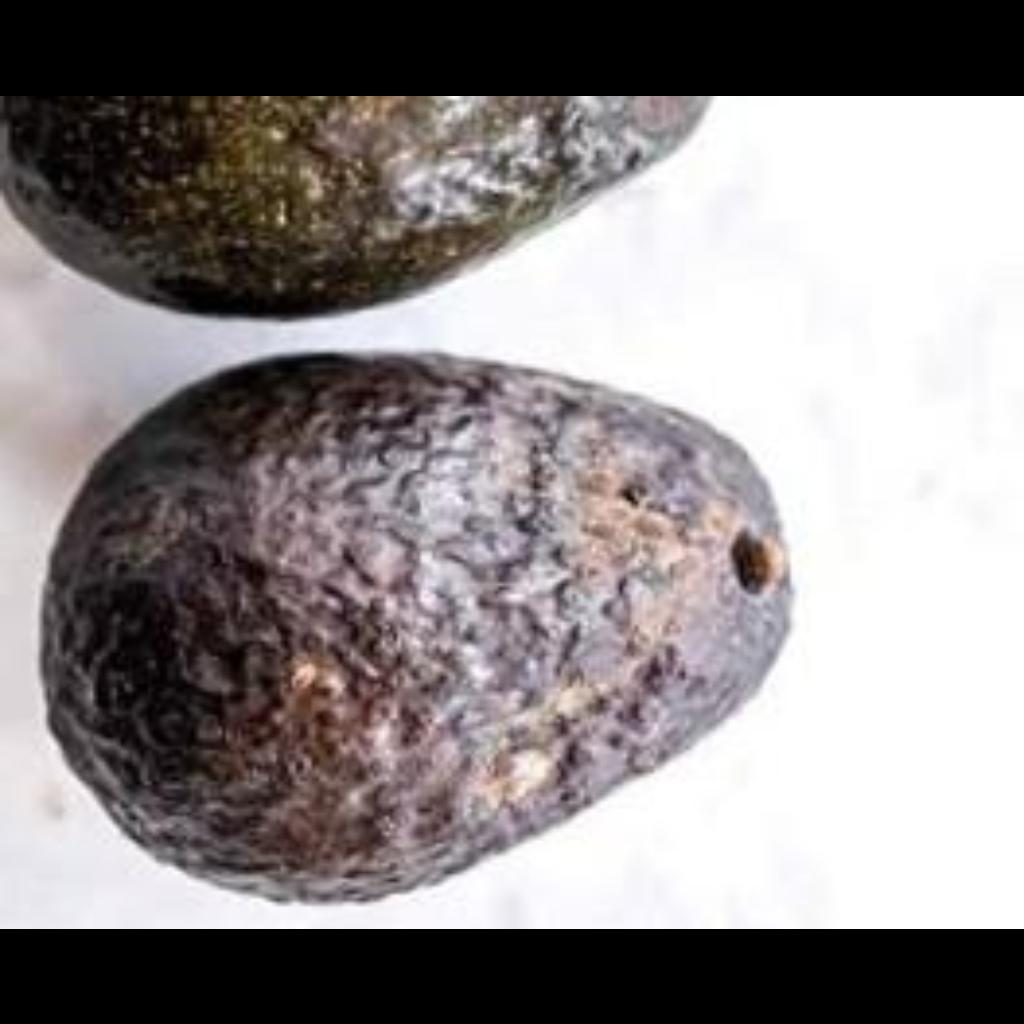antracnosis_fruto: (90, 348, 803, 815)
